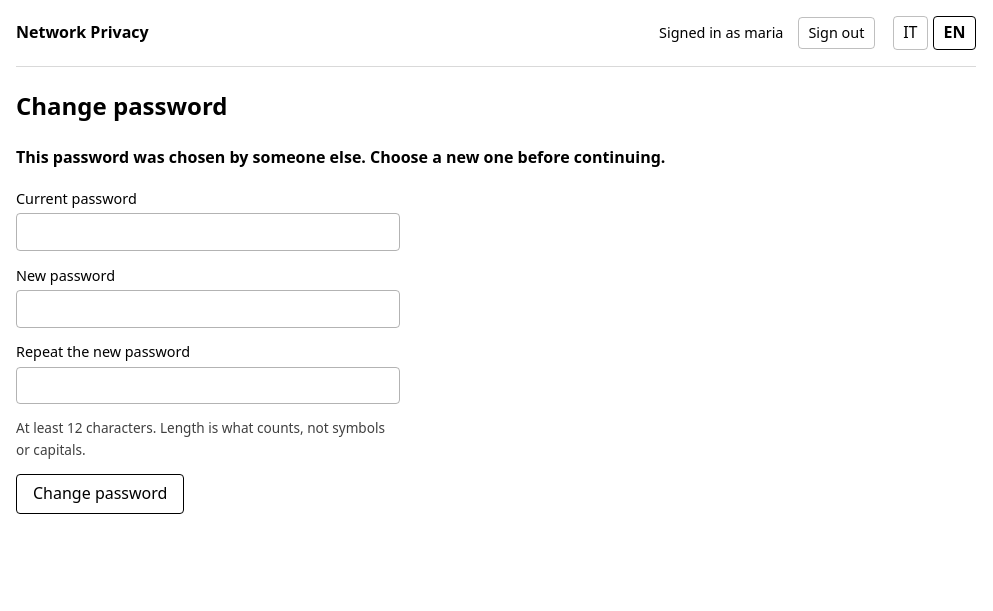
Passwords › does not bother the engine when the two new passwords differ
Step 1. Type "the-password-set-by-root" into the password field named "currentPassword" → (208, 232), box left=16, top=213, right=400, bottom=251
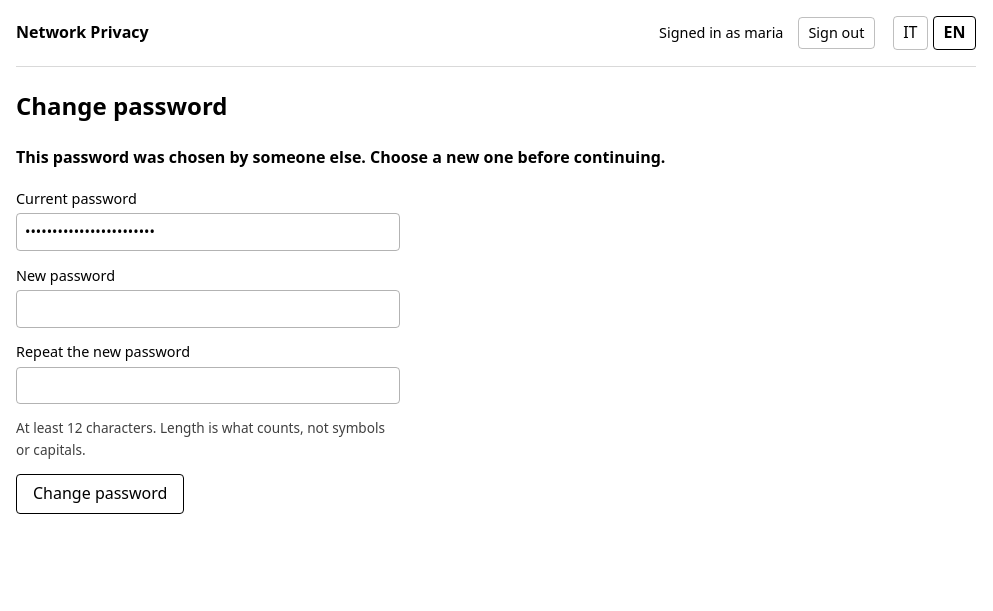
Step 2. Type "a-password-of-my-own" into the password field named "newPassword" → (208, 309), box left=16, top=290, right=400, bottom=328
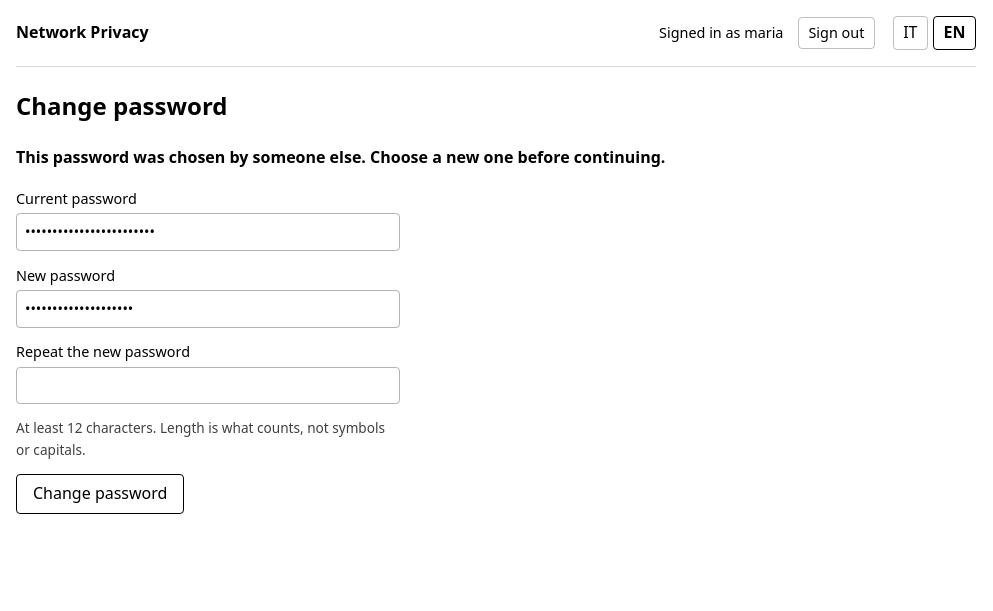
Step 3. Type "a-password-of-my-owm" into the password field named "repeatedPassword" → (208, 386), box left=16, top=367, right=400, bottom=404
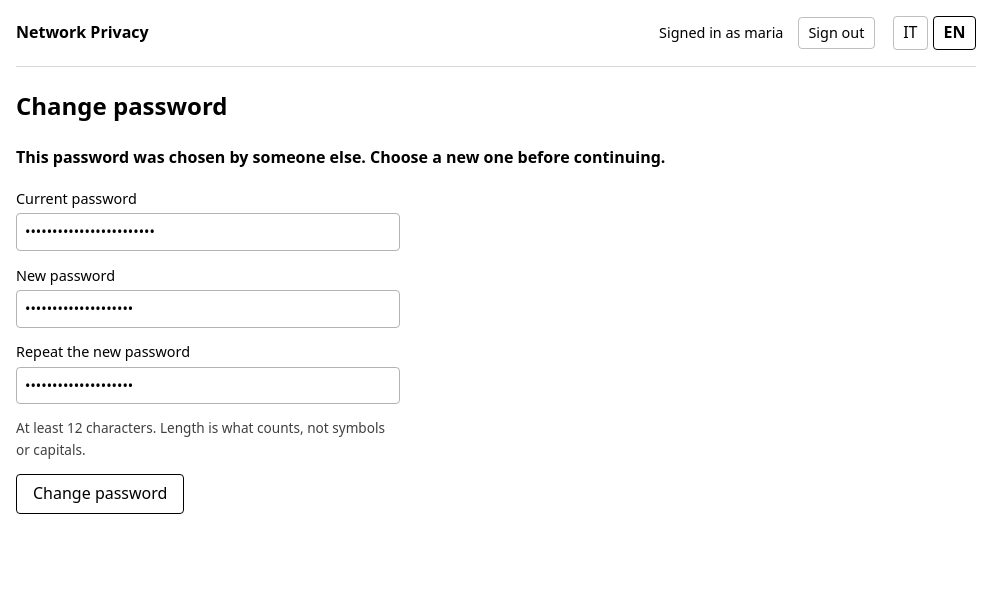
Step 4. Submit the form, box left=16, top=187, right=400, bottom=514
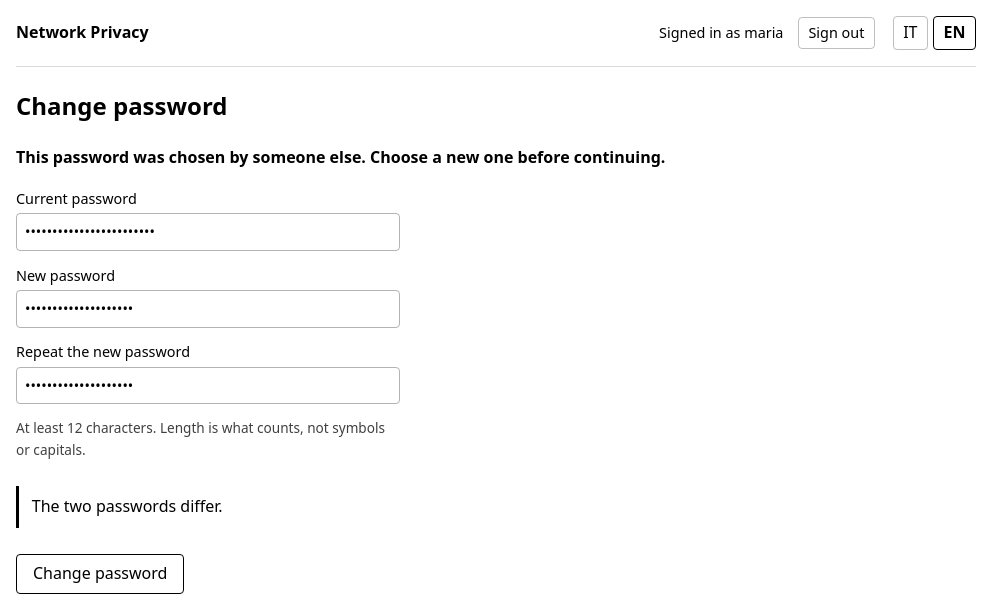
expect the message "The two passwords differ." is shown: met, box left=16, top=486, right=400, bottom=528
